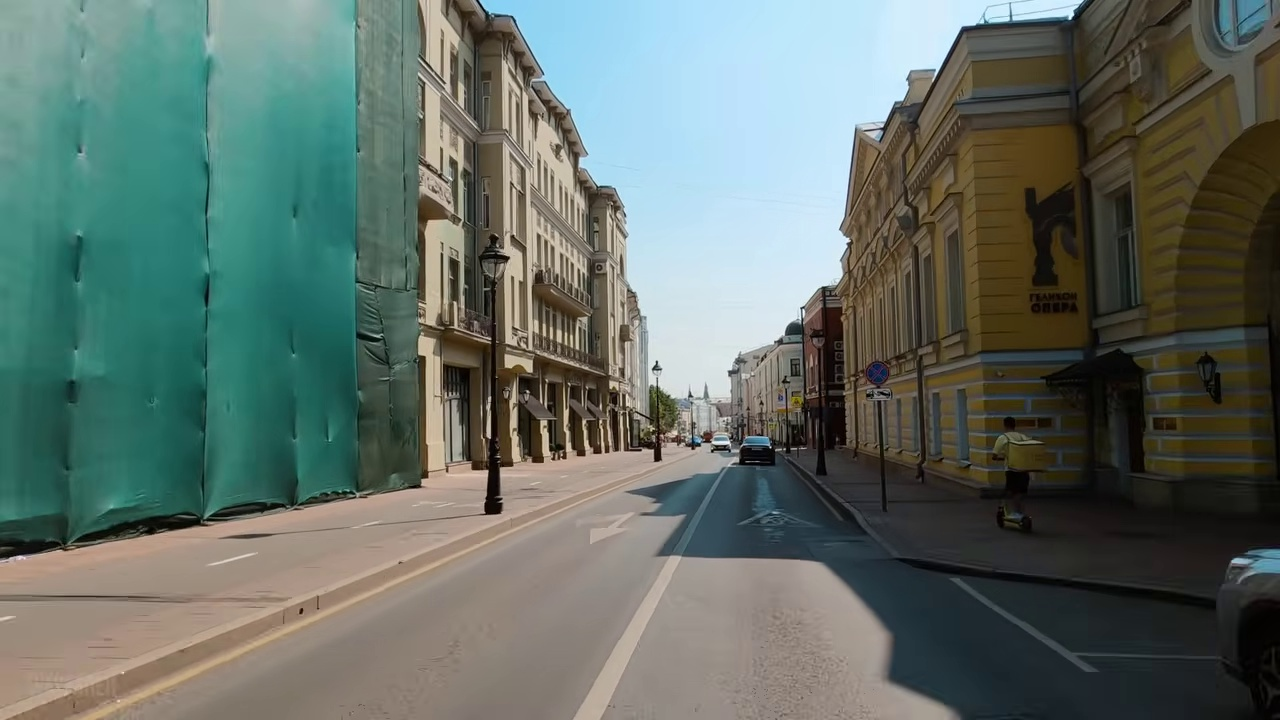apagada: (480, 244, 510, 286)
